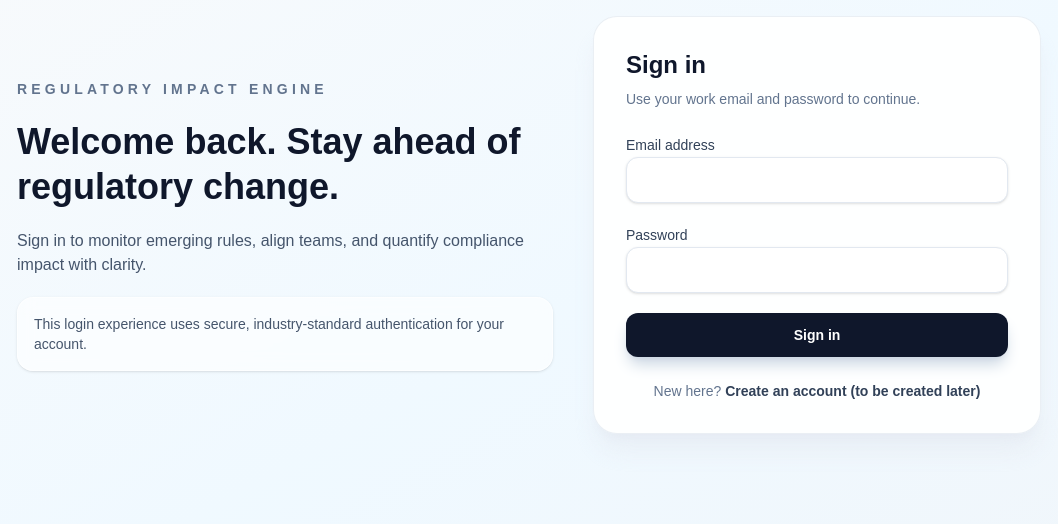
Test: LoginPage › should show fallback error message on signIn error
The width and height of the screenshot is (1058, 524).
Step 1. Type "test@example.com" into the field labelled "Email address" → (817, 180), box x1=626 y1=157 x2=1008 y2=203
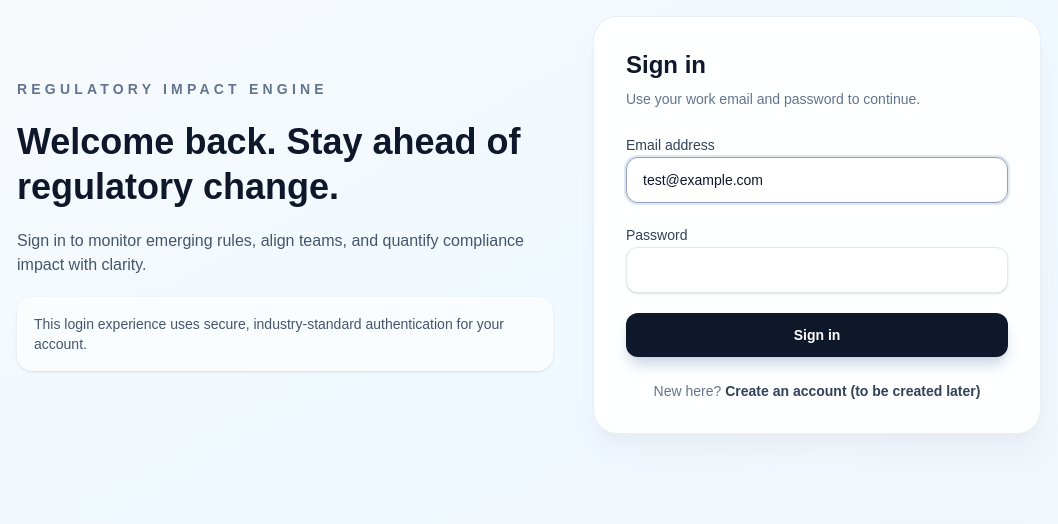
Step 2. Type "password123" into the password field labelled "Password" → (817, 270), box x1=626 y1=247 x2=1008 y2=293
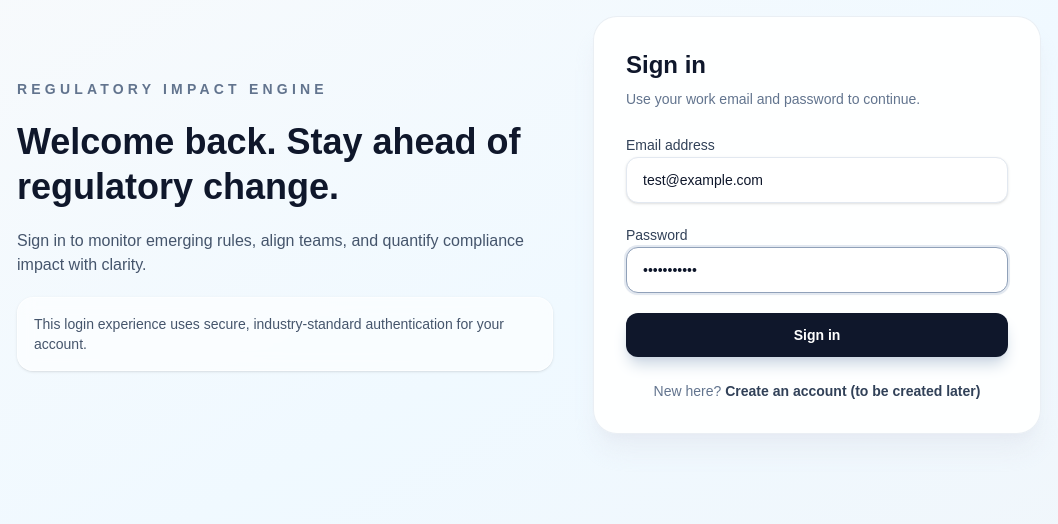
Step 3. Click the button "Sign in" → (817, 335), box x1=626 y1=313 x2=1008 y2=357
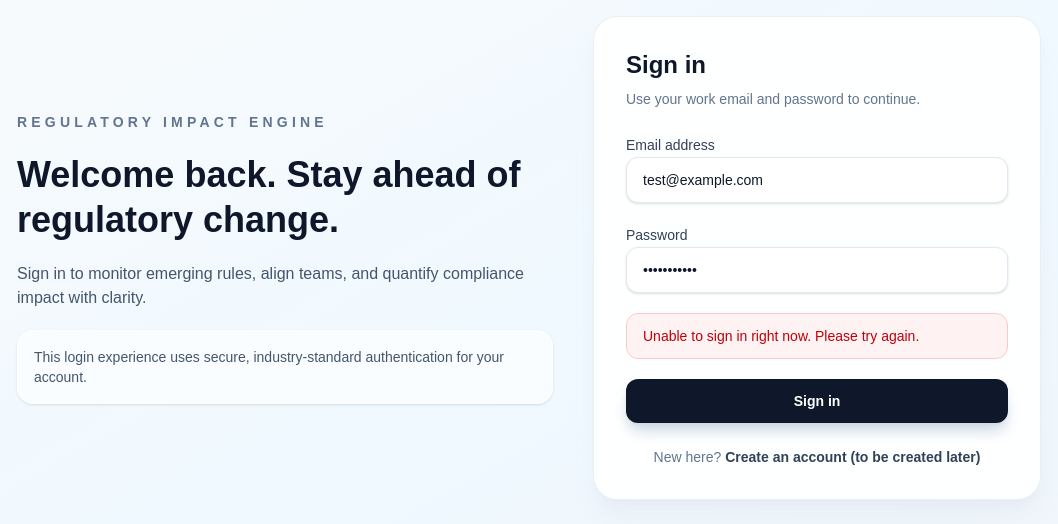
Now the message reads "Unable to sign in right now. Please try again.", box x1=643 y1=328 x2=919 y2=344
